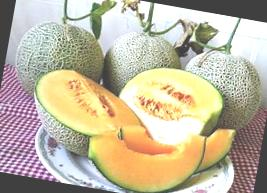Melon Ripe: (24, 63, 148, 165), (112, 59, 228, 150), (81, 114, 207, 193)
